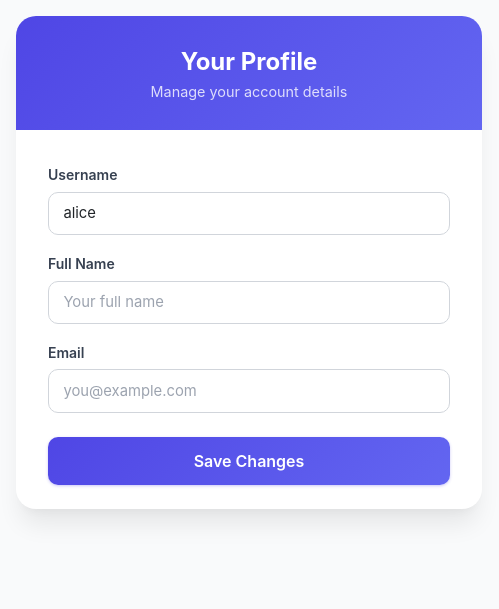
Test case: ProfilePage › submits profile update via PUT
The width and height of the screenshot is (499, 609).
Expected: the field showing "alice" is shown, x1=48 y1=192 x2=450 y2=235
Type "Alice Wonder" into the field labelled "Full Name".
click(249, 302); type("Alice Wonder")  # box x1=48 y1=281 x2=450 y2=324
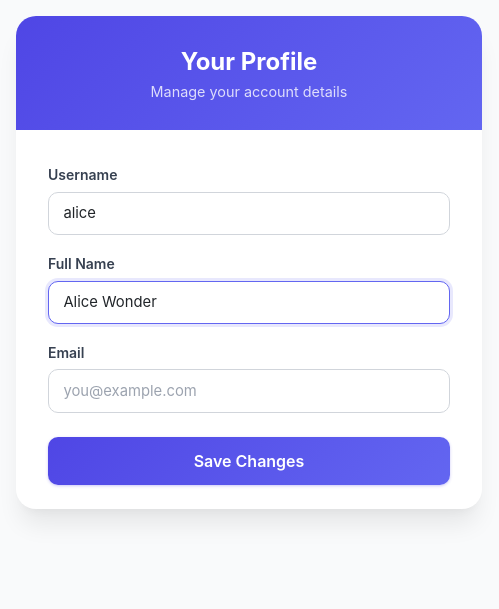
Click the button "Save Changes".
click(249, 461)  # box x1=48 y1=437 x2=450 y2=485
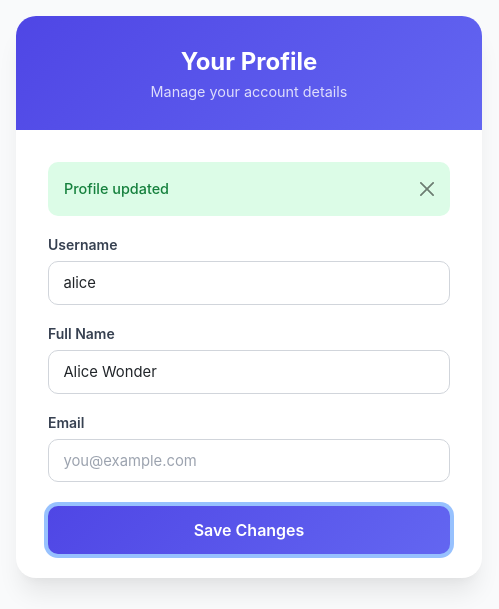
Now the text "Profile updated" is shown, box x1=48 y1=162 x2=450 y2=216
